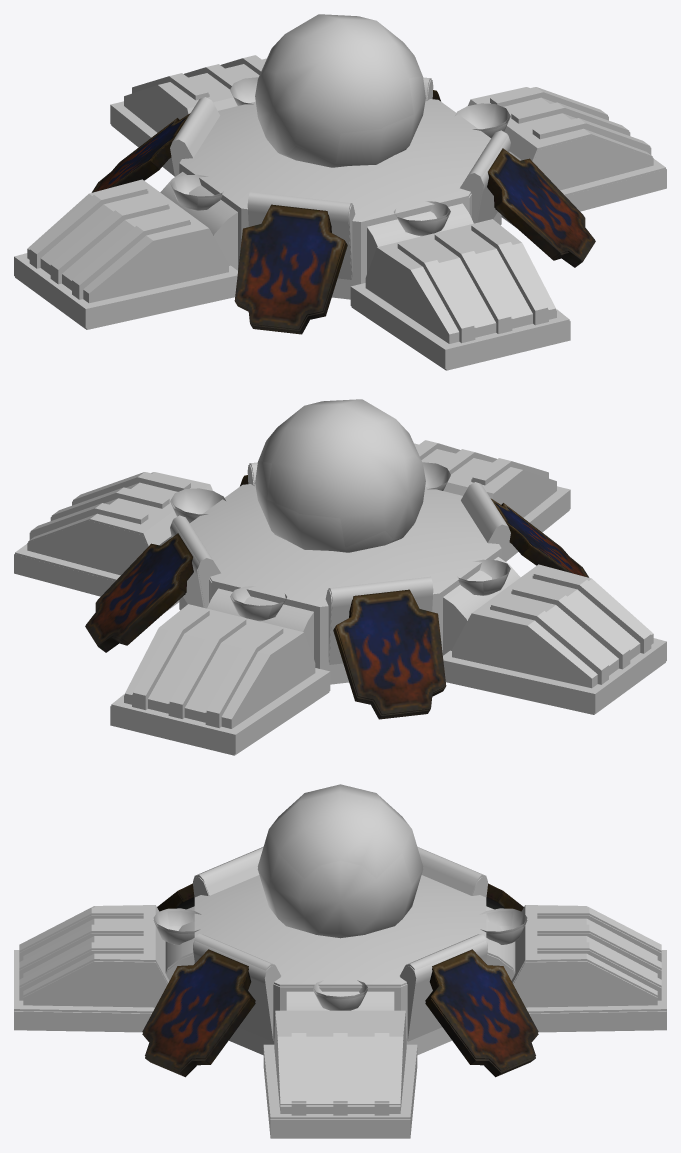
3 views of the same model, one above another, from view 1: azimuth 30°, elevation 25°; view 2: azimuth 150°, elevation 25°; view 3: azimuth 270°, elevation 25° (orthographic). The views are drawn at different scales.
Visible parts, largest first — view 1: footr, footl, footr1, footl1; view 2: footr, footl, footr1, footl1; view 3: footr, footl, footr1, footl1.
Boxes of the visible parts, left/top/right/bottom form: footr: left=14, top=14, right=665, bottom=368; footl: left=15, top=57, right=666, bottom=370; footr1: left=91, top=90, right=594, bottom=329; footl1: left=143, top=92, right=595, bottom=334; footr: left=15, top=399, right=666, bottom=753; footl: left=14, top=442, right=665, bottom=755; footr1: left=86, top=475, right=589, bottom=714; footl1: left=85, top=477, right=537, bottom=719; footr: left=14, top=784, right=666, bottom=1119; footl: left=14, top=853, right=666, bottom=1138; footr1: left=142, top=883, right=538, bottom=1070; footl1: left=142, top=893, right=538, bottom=1077.
Bounding box in the file's own units: 12.62 × 4.44 × 12.6.
